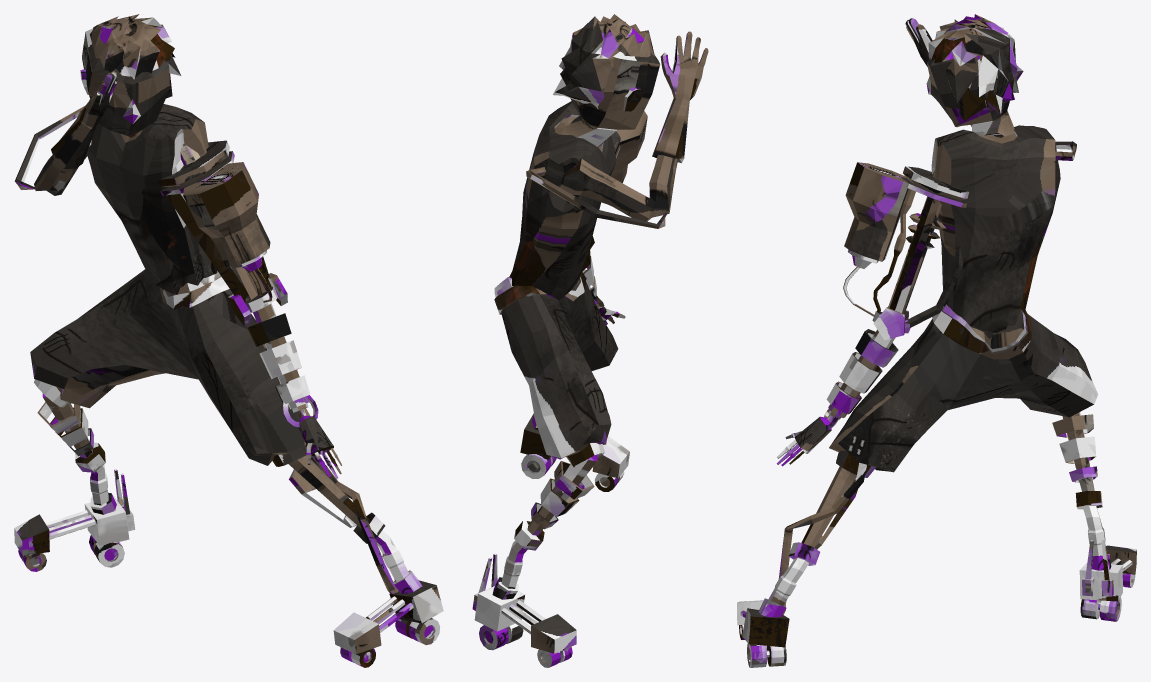
The model's file is CyborgFINALAnimation_000025.obj.
The picture shows the model from 3 angles, left to right: view 1: azimuth 30°, elevation 25°; view 2: azimuth 150°, elevation 25°; view 3: azimuth 270°, elevation 25°; orthographic projection. The views are drawn at different scales.
Visible parts, largest first — view 1: CyborgMesh_Cube.002; view 2: CyborgMesh_Cube.002; view 3: CyborgMesh_Cube.002.
Part boxes in pixels (x1,y1,x2,y2): CyborgMesh_Cube.002: [14, 14, 443, 667]; CyborgMesh_Cube.002: [472, 14, 708, 667]; CyborgMesh_Cube.002: [737, 14, 1136, 667].
Size of the model in its own units: 4.19 by 8.66 by 5.44.
